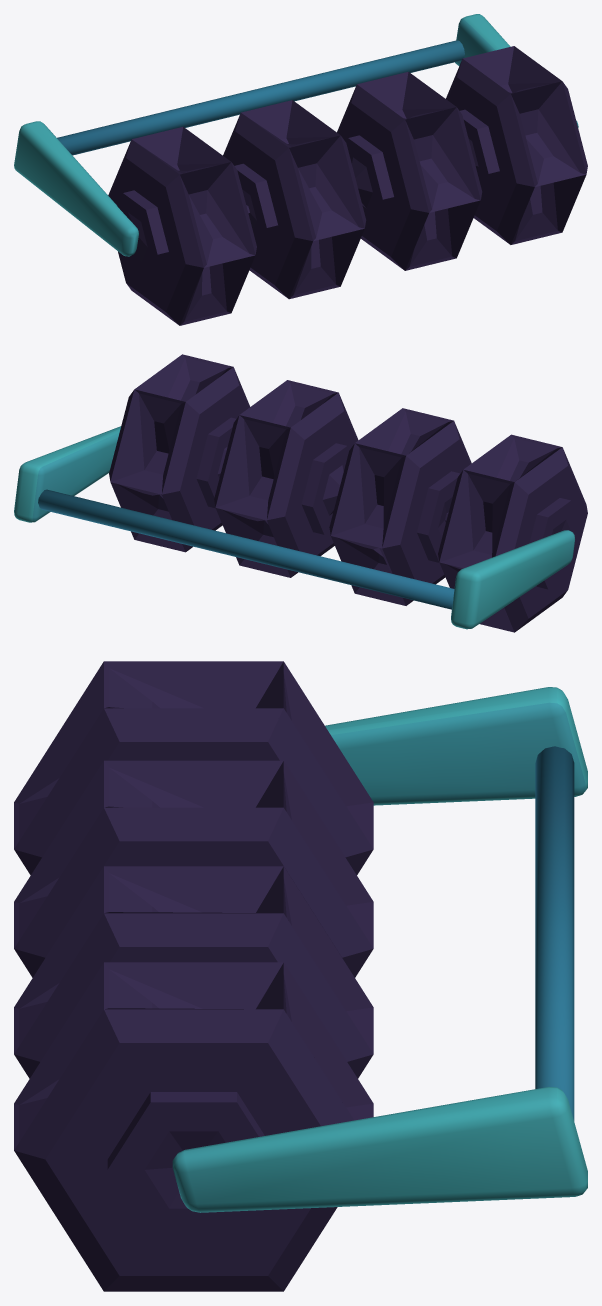
Rendered from 2_level_knife.fbx.
The picture shows the model from 3 angles, top to bottom: view 1: azimuth 30°, elevation 25°; view 2: azimuth 150°, elevation 25°; view 3: azimuth 270°, elevation 25°; orthographic projection. The views are drawn at different scales.
Visible parts, largest first — view 1: cylinder2, Knife_2; view 2: cylinder2, Knife_2; view 3: cylinder2, Knife_2.
Boxes of the visible parts, bbox=[...] form: cylinder2: bbox=[108, 46, 587, 325]; Knife_2: bbox=[14, 14, 578, 256]; cylinder2: bbox=[109, 354, 587, 632]; Knife_2: bbox=[14, 426, 574, 629]; cylinder2: bbox=[14, 661, 373, 1291]; Knife_2: bbox=[172, 687, 587, 1212].
Bounding box in the file's own units: 3.34 × 1.04 × 1.92.
